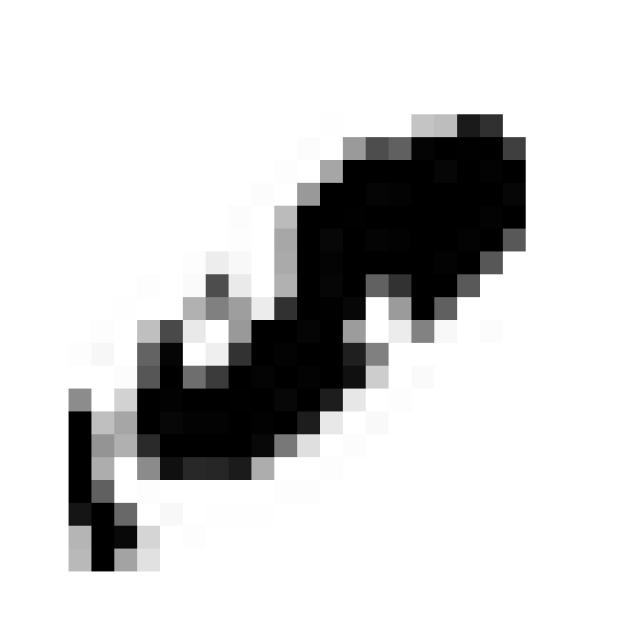0 -zero-: (50, 96, 543, 582)
